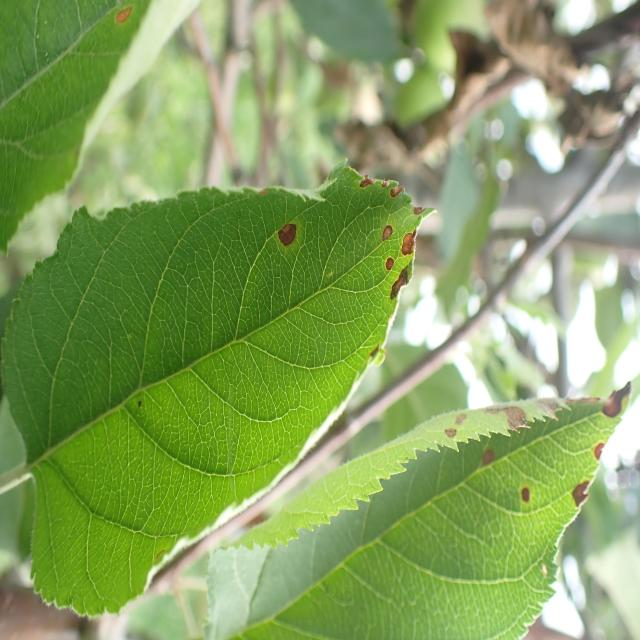Black Rot: (534, 381, 596, 430), (592, 377, 640, 438), (484, 387, 528, 441), (357, 168, 408, 204), (396, 222, 434, 266), (270, 209, 305, 256), (564, 474, 592, 518), (384, 261, 411, 305), (443, 400, 468, 447), (110, 1, 146, 30), (478, 439, 502, 481), (511, 479, 543, 507), (377, 212, 393, 251), (407, 197, 429, 224), (590, 432, 606, 468), (380, 252, 399, 280)
